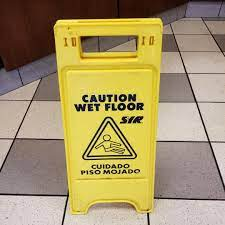wet caution sign: (49, 11, 159, 217)
